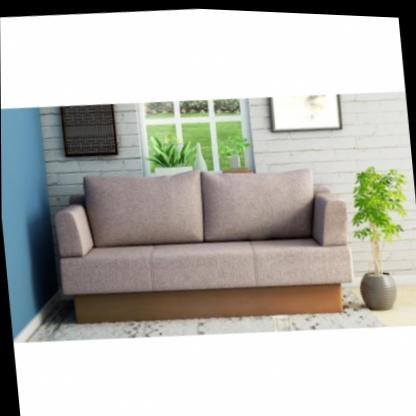Sofa: (48, 149, 356, 334)
